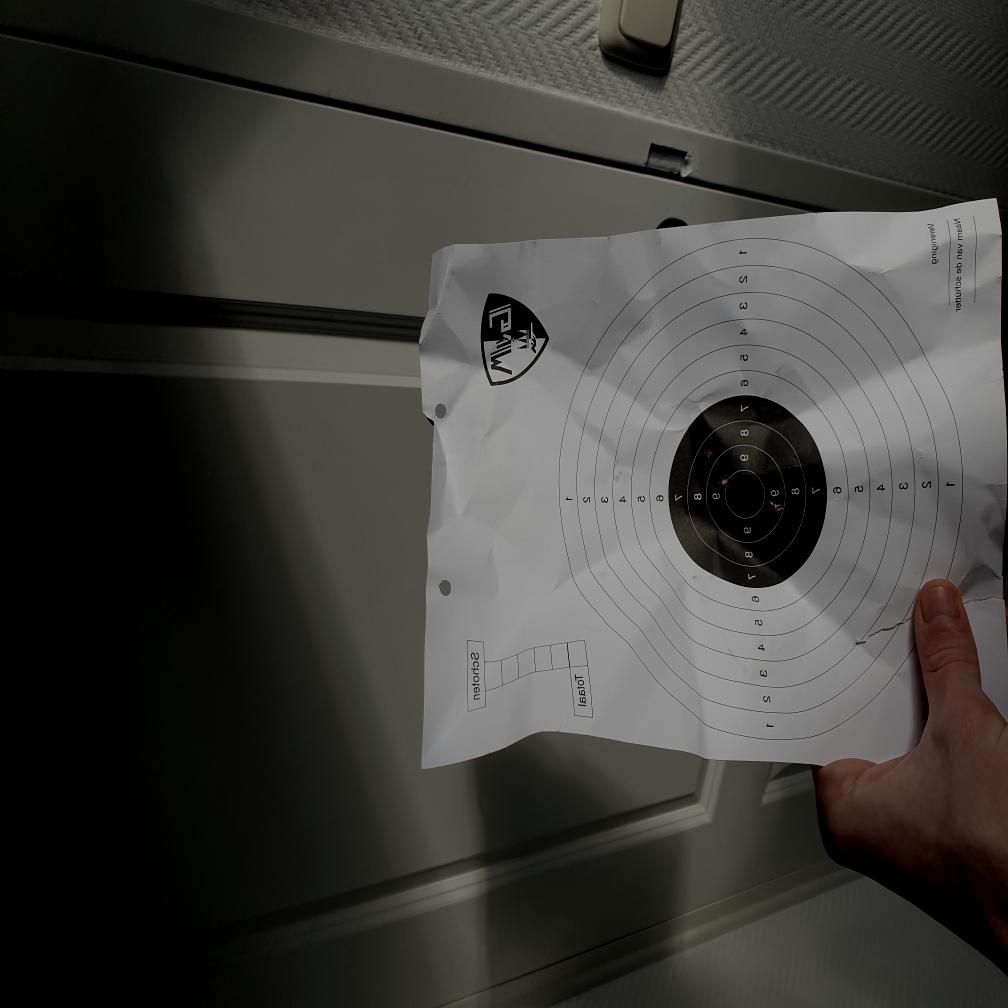10: (718, 474, 731, 490)
8: (704, 446, 714, 460)
9: (767, 497, 788, 518)
Target: (557, 239, 963, 745)
black_contour: (668, 396, 828, 588)
